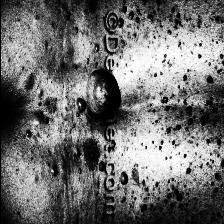Unclassified: (119, 0, 224, 224), (25, 0, 102, 224)
